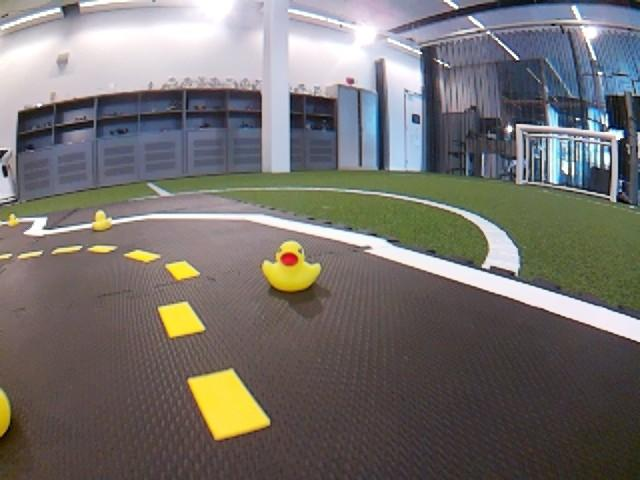Duckies: (261, 242, 320, 293), (91, 211, 113, 231), (8, 213, 20, 226)
